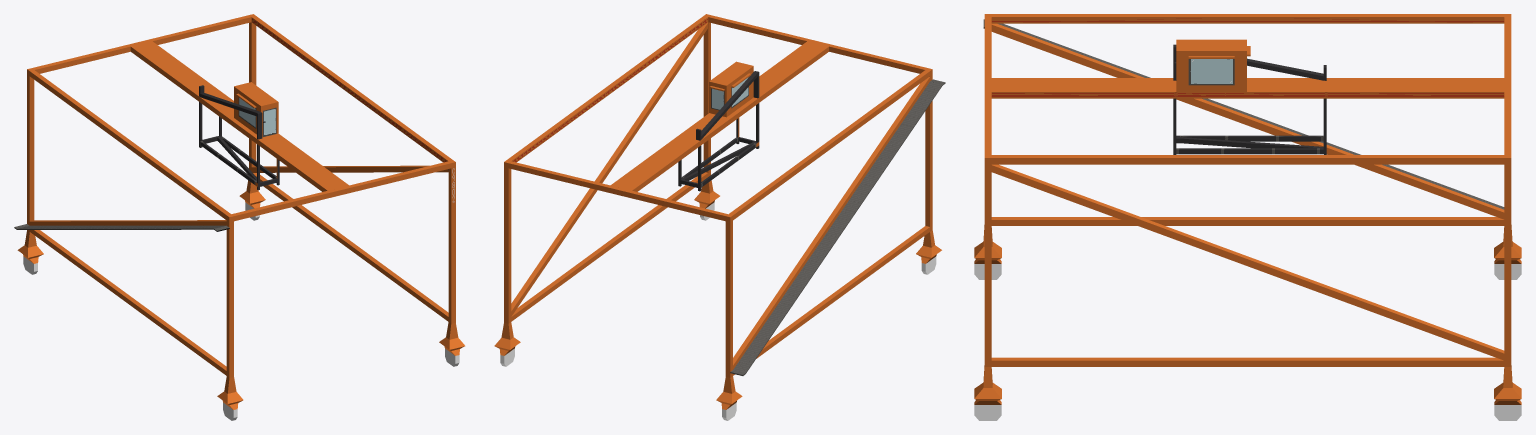
Rendered from Crane2.glb.
The picture shows the model from 3 angles, left to right: view 1: azimuth 30°, elevation 25°; view 2: azimuth 150°, elevation 25°; view 3: azimuth 270°, elevation 25°; orthographic projection. The views are drawn at different scales.
Parts seen in each view (by area): view 1: Cube, Cube.001, Cube.002, Wheels; view 2: Cube, Cube.001, Cube.002, Wheels; view 3: Cube, Cube.001, Cube.002, Wheels.
Part boxes in pixels (<box>): Cube: <box>14,14,464,409</box>; Cube.001: <box>130,41,348,191</box>; Cube.002: <box>199,82,279,190</box>; Wheels: <box>23,202,459,420</box>; Cube: <box>494,14,945,409</box>; Cube.001: <box>610,41,828,191</box>; Cube.002: <box>678,61,759,191</box>; Wheels: <box>500,202,936,420</box>; Cube: <box>974,14,1521,404</box>; Cube.001: <box>991,78,1504,98</box>; Cube.002: <box>1173,39,1326,154</box>; Wheels: <box>974,264,1521,420</box>.
Size of the model in its own units: 106 by 96.37 by 157.
2 materials, 1 textured.
